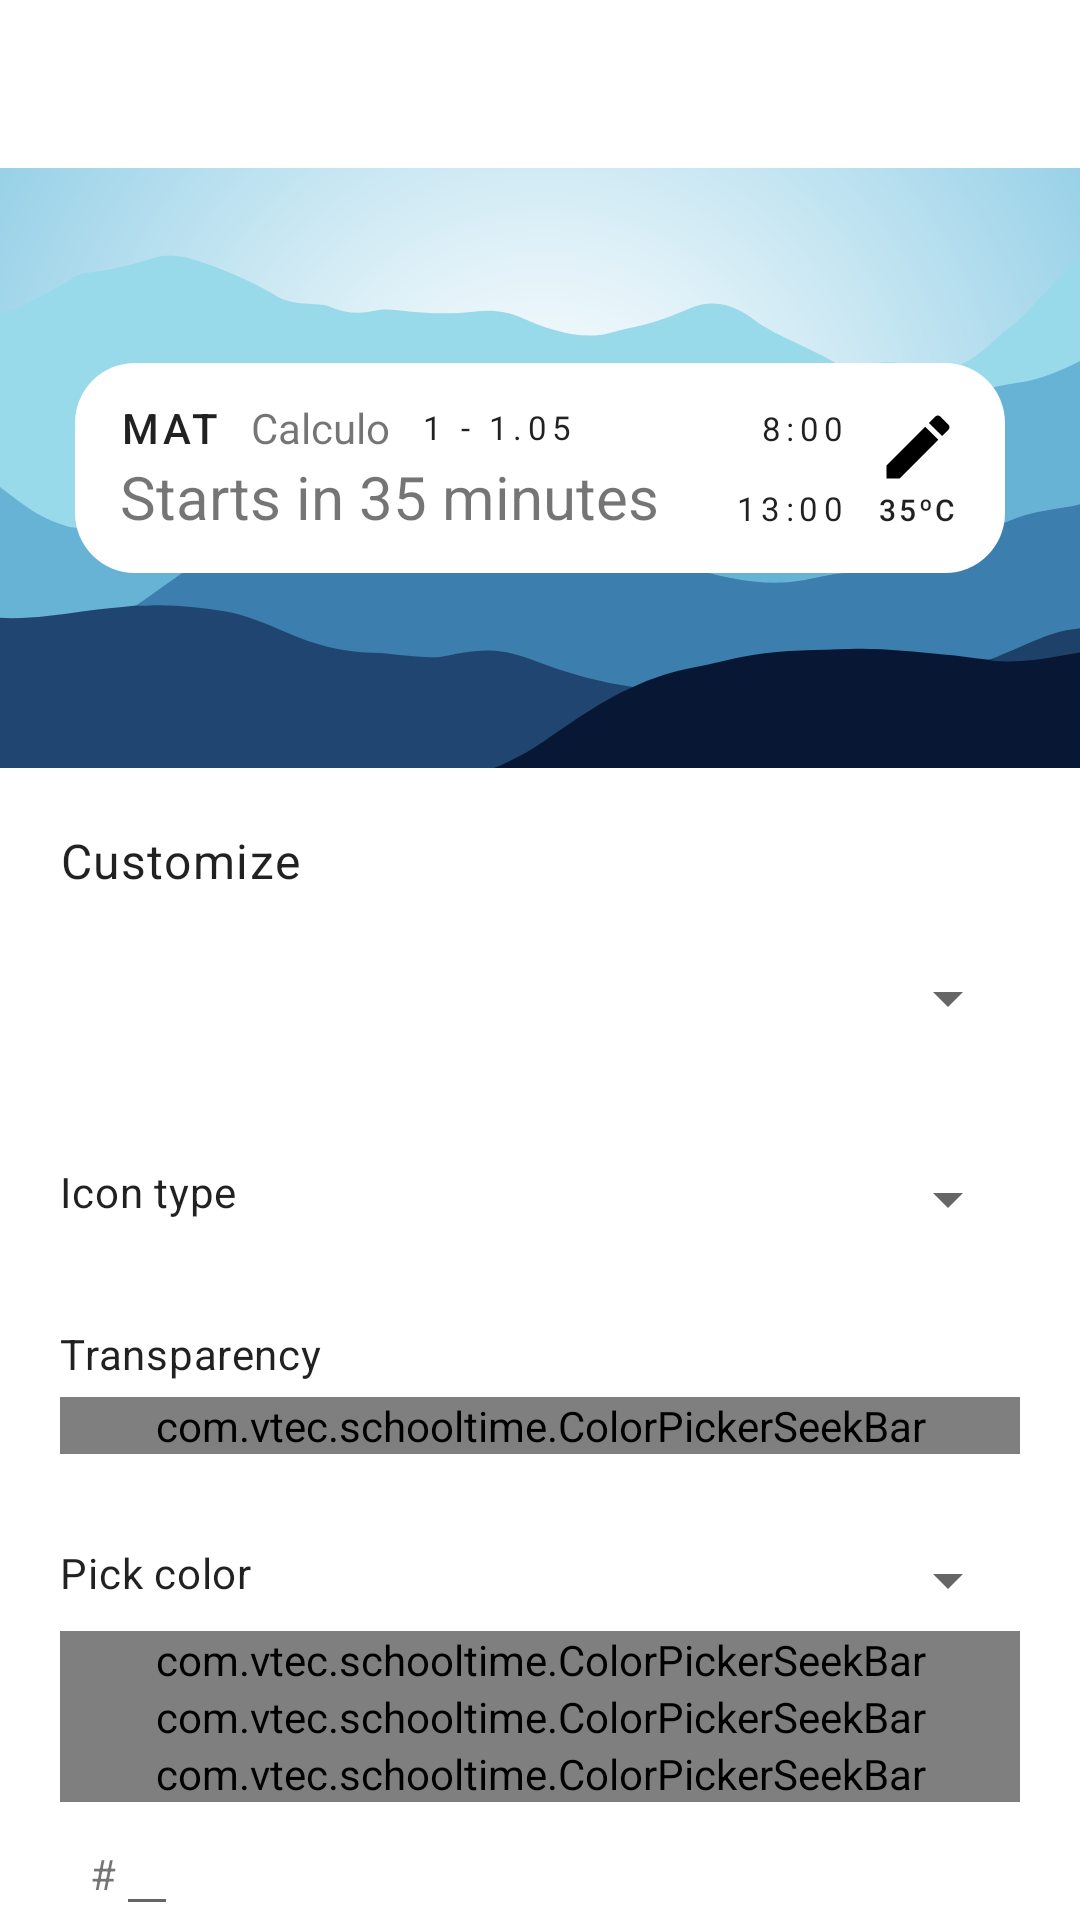

Screen size 1080px x 1920px. Icon name, then its box in pixels as (x1, y1, x2, y2):
pen: (886, 415, 950, 479)
